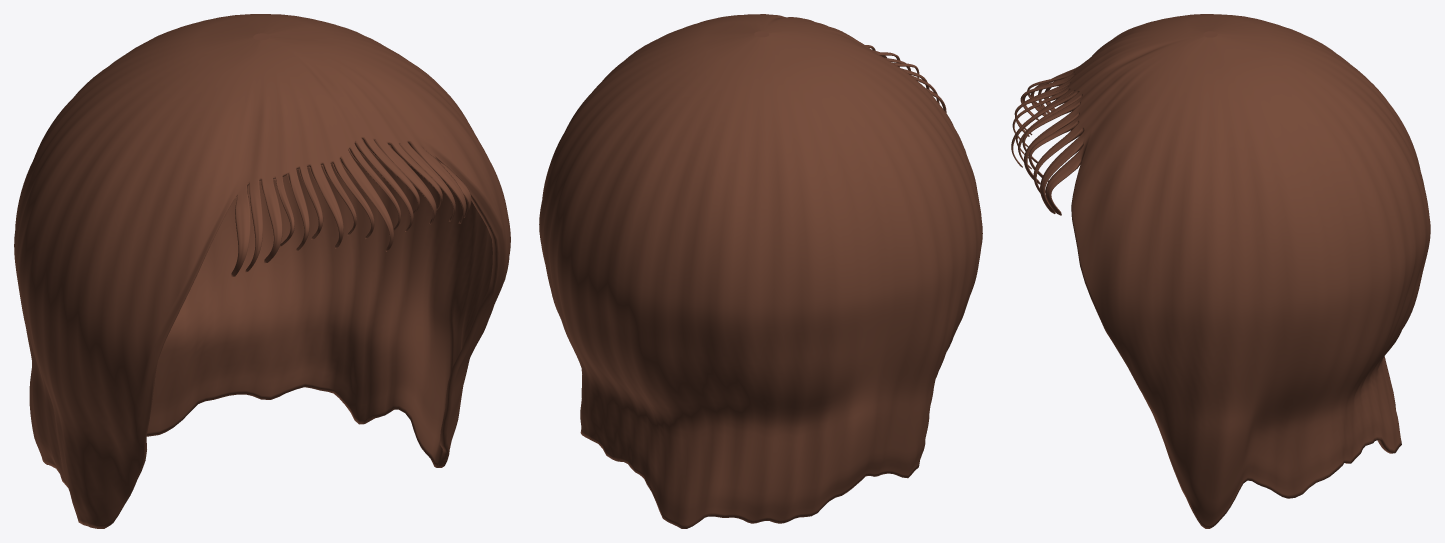
The model's file is side-sweep-none.glb.
3 renders of one model, left to right at view 1: azimuth 30°, elevation 25°; view 2: azimuth 150°, elevation 25°; view 3: azimuth 270°, elevation 25°, orthographic. The views are drawn at different scales.
Visible parts, largest first — view 1: Wispy bangs / continuous crown; view 2: Wispy bangs / continuous crown; view 3: Wispy bangs / continuous crown.
Part boxes in pixels (x1=…): Wispy bangs / continuous crown: x1=14, y1=14, x2=510, y2=528; Wispy bangs / continuous crown: x1=539, y1=14, x2=982, y2=528; Wispy bangs / continuous crown: x1=1011, y1=14, x2=1430, y2=528.
Bounding box in the file's own units: 0.8388 × 0.8786 × 0.7975.
